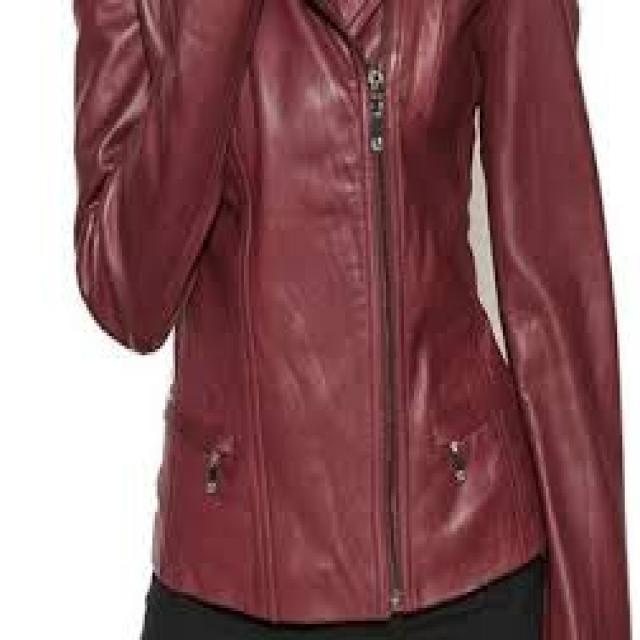Jacket: (56, 17, 554, 574)
